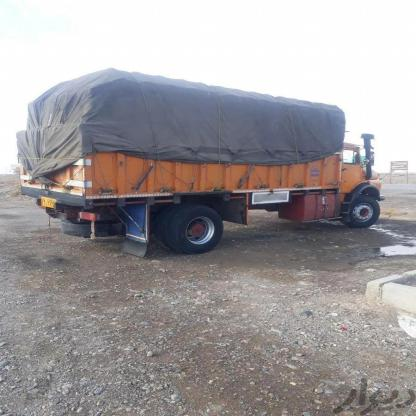Truck: (2, 70, 395, 251)
